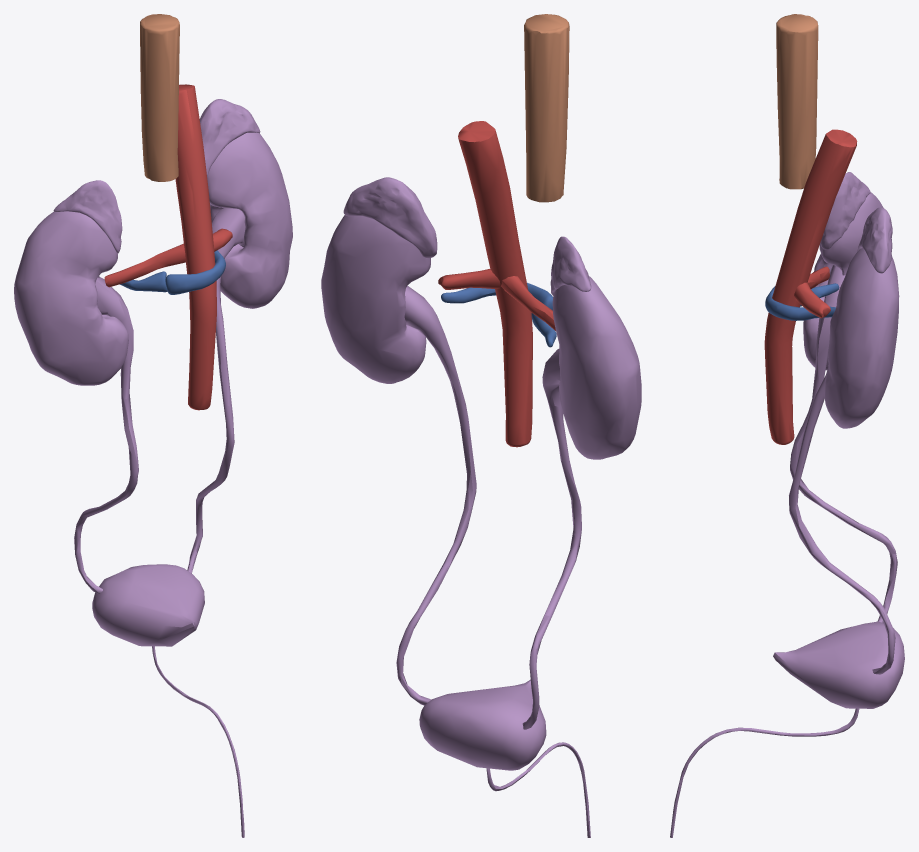
File: nefrologi.glb
3 views of the same model, side by side, from view 1: azimuth 30°, elevation 25°; view 2: azimuth 150°, elevation 25°; view 3: azimuth 270°, elevation 25° (orthographic). The views are drawn at different scales.
Visible parts, largest first — view 1: Right kidney, Left kidney, Abdominal aorta, Urinary bladder, Inferior vena cava, Left ureter, Right ureter, Left adrenal gland, Right adrenal gland, Right renal artery, Left renal vein, Urethra (+1 smaller); view 2: Left kidney, Right kidney, Abdominal aorta, Urinary bladder, Inferior vena cava, Left ureter, Left adrenal gland, Right ureter, Right adrenal gland, Right renal artery, Left renal artery, Left renal vein (+1 smaller); view 3: Left kidney, Abdominal aorta, Urinary bladder, Inferior vena cava, Right ureter, Left ureter, Right kidney, Right adrenal gland, Left adrenal gland, Urethra, Left renal vein, Left renal artery.
Boxes of the visible parts, x1,y1,x2,y2 form: Right kidney: (14, 211, 128, 385); Left kidney: (207, 132, 292, 308); Abdominal aorta: (175, 84, 216, 410); Urinary bladder: (92, 564, 204, 646); Inferior vena cava: (140, 14, 179, 181); Left ureter: (187, 208, 245, 573); Right ureter: (74, 277, 138, 593); Left adrenal gland: (199, 99, 260, 175); Right adrenal gland: (53, 180, 122, 252); Right renal artery: (104, 243, 185, 287); Left renal vein: (165, 250, 225, 294); Urethra: (152, 646, 244, 837); Left kidney: (321, 215, 430, 383); Right kidney: (552, 276, 641, 459); Abdominal aorta: (458, 121, 532, 447); Urinary bladder: (419, 679, 546, 770); Inferior vena cava: (524, 14, 569, 202); Left ureter: (396, 285, 476, 705); Left adrenal gland: (343, 177, 437, 258); Right ureter: (522, 349, 581, 729); Right adrenal gland: (550, 236, 591, 295); Right renal artery: (501, 276, 555, 330); Left renal artery: (438, 269, 500, 289); Left renal vein: (441, 282, 553, 310); Left kidney: (824, 248, 899, 428); Abdominal aorta: (764, 129, 857, 444); Urinary bladder: (773, 621, 904, 708); Inferior vena cava: (776, 14, 818, 189); Right ureter: (790, 265, 897, 623); Left ureter: (789, 375, 895, 674); Right kidney: (803, 192, 883, 370); Right adrenal gland: (820, 172, 870, 249); Left adrenal gland: (857, 207, 892, 273); Urethra: (670, 708, 859, 837); Left renal vein: (765, 286, 835, 320); Left renal artery: (794, 282, 830, 318).
Bounding box in the file's own units: 0.7385 × 2 × 0.5297.
